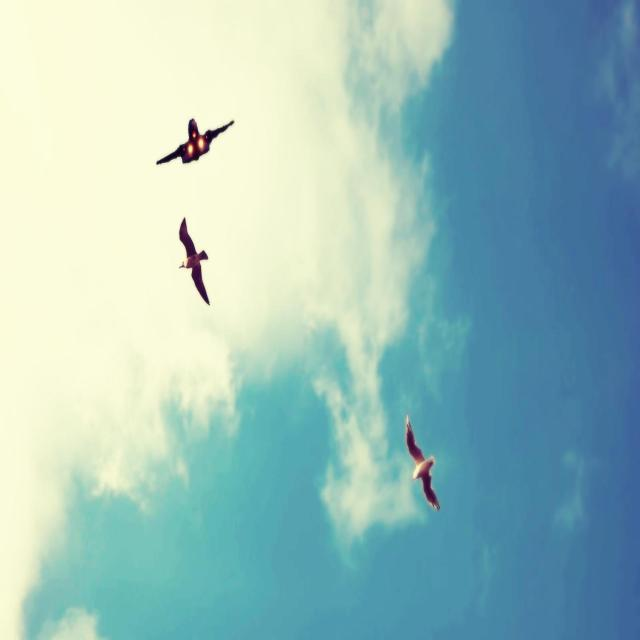airplane: (156, 116, 234, 164)
